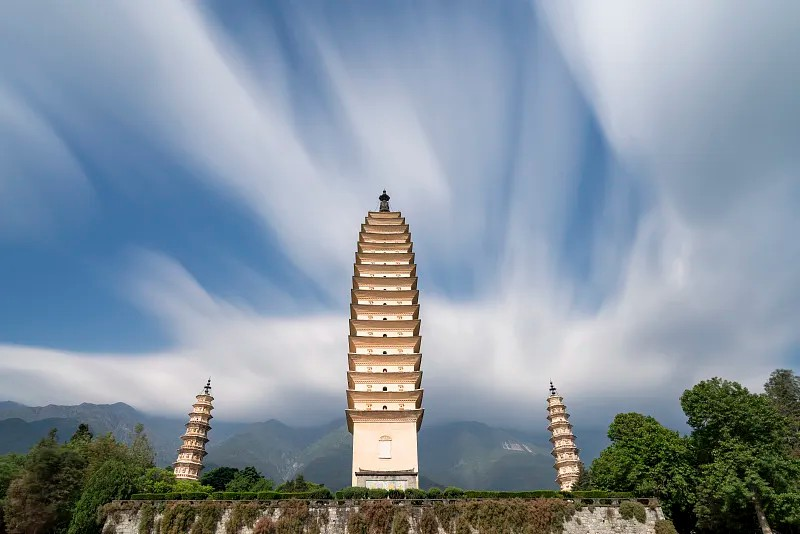ThreePagoda: (345, 189, 424, 488)
